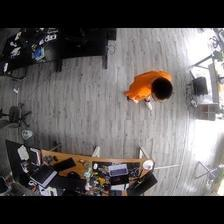normal: (124, 69, 174, 112)
